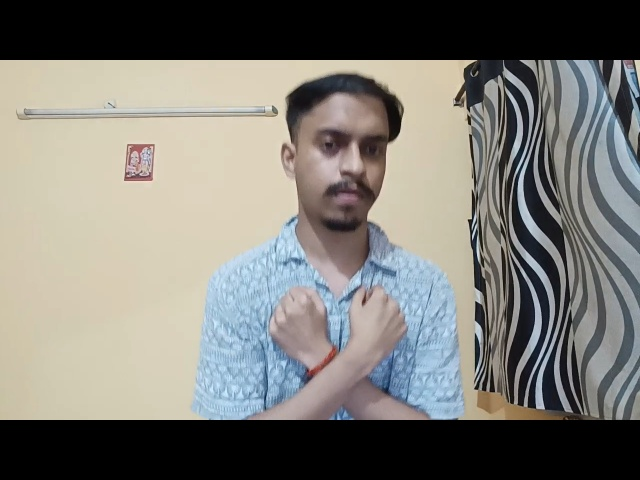Love: (244, 264, 436, 427)
